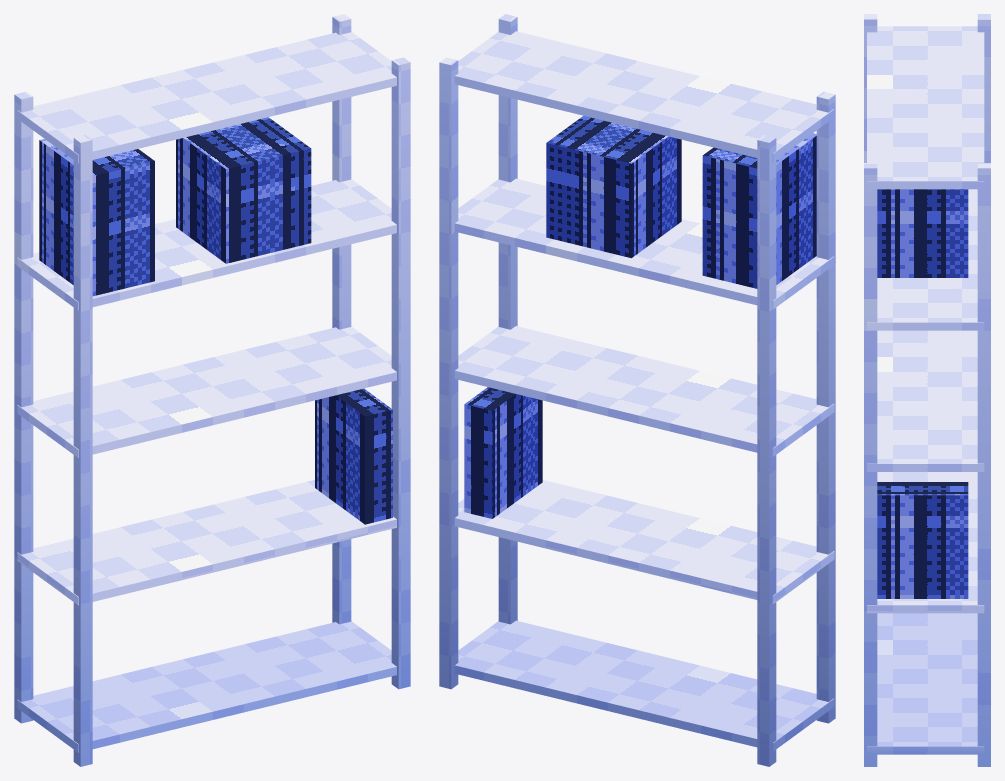
File: shelf.glb
3 renders of one model, left to right at view 1: azimuth 30°, elevation 25°; view 2: azimuth 150°, elevation 25°; view 3: azimuth 270°, elevation 25°, orthographic. The views are drawn at different scales.
Visible parts, largest first — view 1: kit_shelf_boards, kit_shelf_frame, kit_books; view 2: kit_shelf_boards, kit_shelf_frame, kit_books; view 3: kit_shelf_boards, kit_books, kit_shelf_frame.
Boxes of the visible parts, box(x1,y1,x2,y2) form: kit_shelf_boards: box(17, 32, 396, 752); kit_shelf_frame: box(14, 14, 410, 766); kit_books: box(39, 117, 392, 524); kit_shelf_boards: box(454, 31, 834, 751); kit_shelf_frame: box(439, 14, 835, 766); kit_books: box(464, 115, 816, 518); kit_shelf_boards: box(867, 26, 984, 754); kit_books: box(877, 189, 968, 598); kit_shelf_frame: box(864, 14, 990, 766).
Size of the model in its own units: 1 by 1.8 by 0.346.
Materials: 2 (2 with a texture image).
